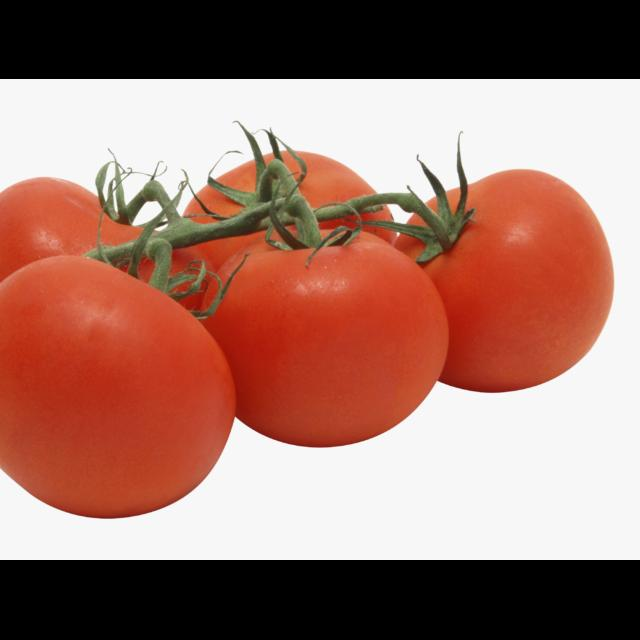tomato: (0, 256, 234, 516), (183, 232, 448, 446), (418, 142, 613, 392), (0, 178, 143, 284), (295, 152, 375, 206), (178, 232, 264, 272), (168, 246, 219, 310), (183, 184, 243, 224), (216, 160, 255, 192), (394, 236, 426, 258), (282, 152, 300, 178), (364, 230, 397, 244), (139, 256, 155, 282), (362, 208, 392, 220), (408, 214, 423, 226)
